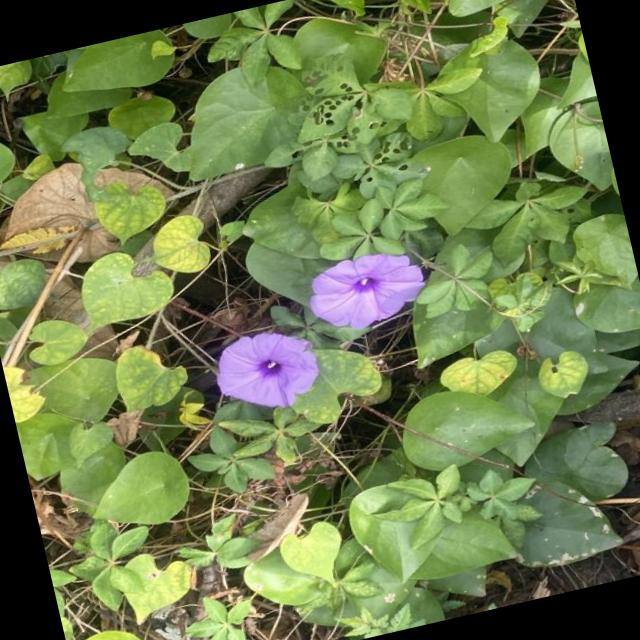ipomoea: (296, 239, 436, 343), (203, 318, 329, 425)
